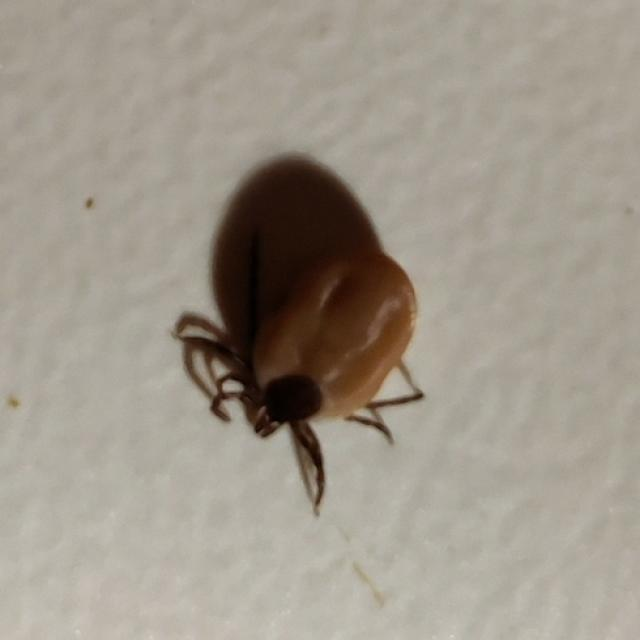Ixodes Ricinus-F-Fed: (171, 234, 426, 517)
